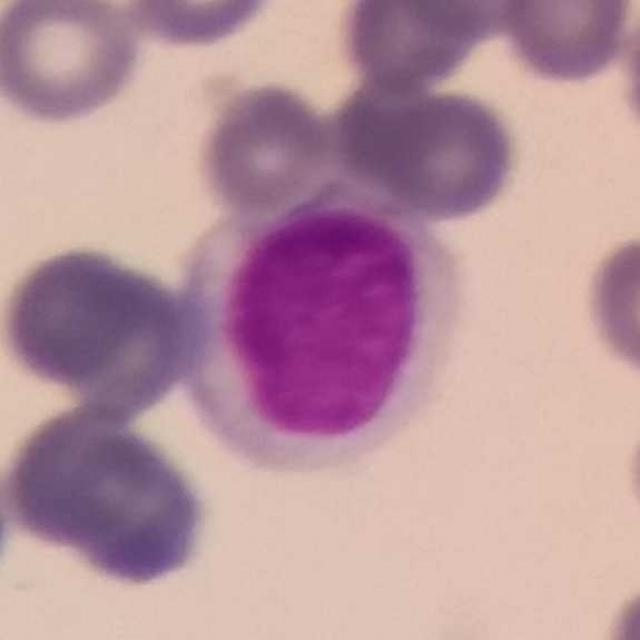Lymphocyte: (174, 179, 468, 479)
RBC: (2, 406, 217, 594), (0, 238, 210, 408), (333, 74, 526, 225), (193, 78, 339, 215), (0, 0, 146, 129), (333, 0, 484, 95), (496, 0, 636, 88), (579, 227, 640, 387), (122, 0, 285, 51), (379, 0, 543, 42), (620, 392, 640, 556), (619, 0, 640, 155), (596, 576, 640, 640)
